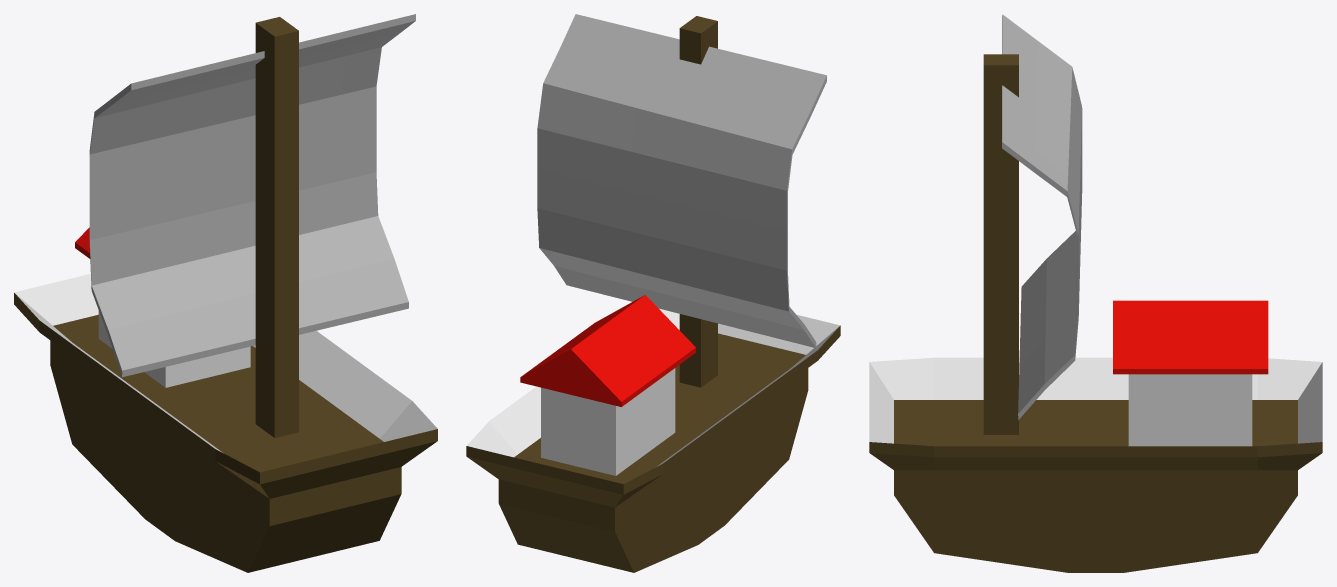
File: Boat.fbx
3 views of the same model, side by side, from view 1: azimuth 30°, elevation 25°; view 2: azimuth 150°, elevation 25°; view 3: azimuth 270°, elevation 25° (orthographic). The views are drawn at different scales.
Parts seen in each view (by area): view 1: Cube, Plane; view 2: Plane, Cube; view 3: Cube, Plane.
Part boxes in pixels (box(x1,y1,x2,y2)): Cube: box(14, 17, 437, 572); Plane: box(89, 14, 415, 377); Plane: box(537, 14, 826, 347); Cube: box(466, 16, 840, 572); Cube: box(869, 54, 1322, 572); Plane: box(1002, 14, 1082, 419).
Size of the model in its own units: 1110 by 1942 by 1648.
